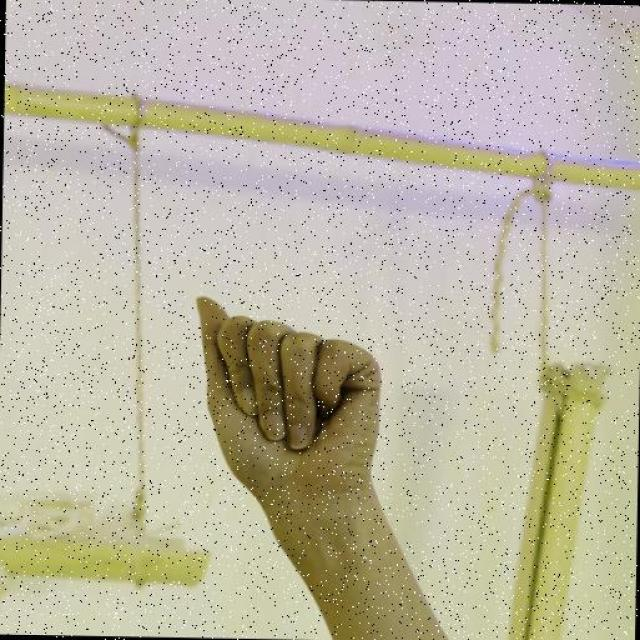A: (191, 292, 387, 502)
